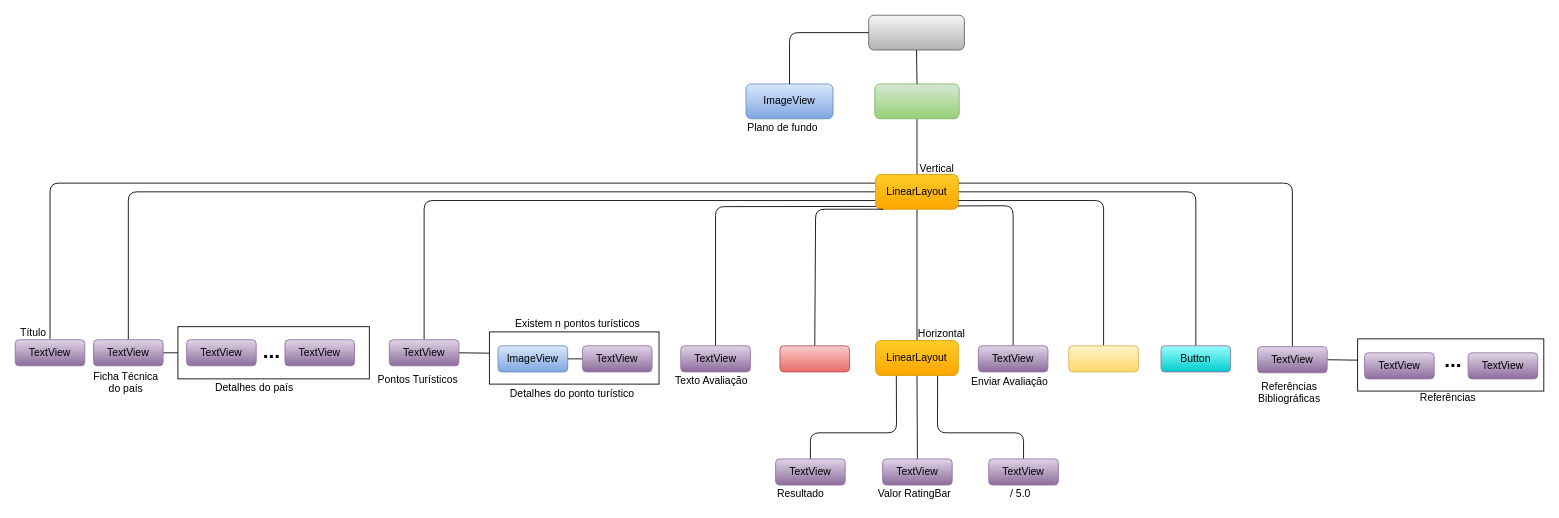
This 1559x518 diagram has some shape labels left out. Here are the shapes that lost their labels. From the top down, the centre of each, then its label:
(916,32): RelativeLayout
(916,101): ScrollView
(814,358): RatingBar
(1103,358): EditText
